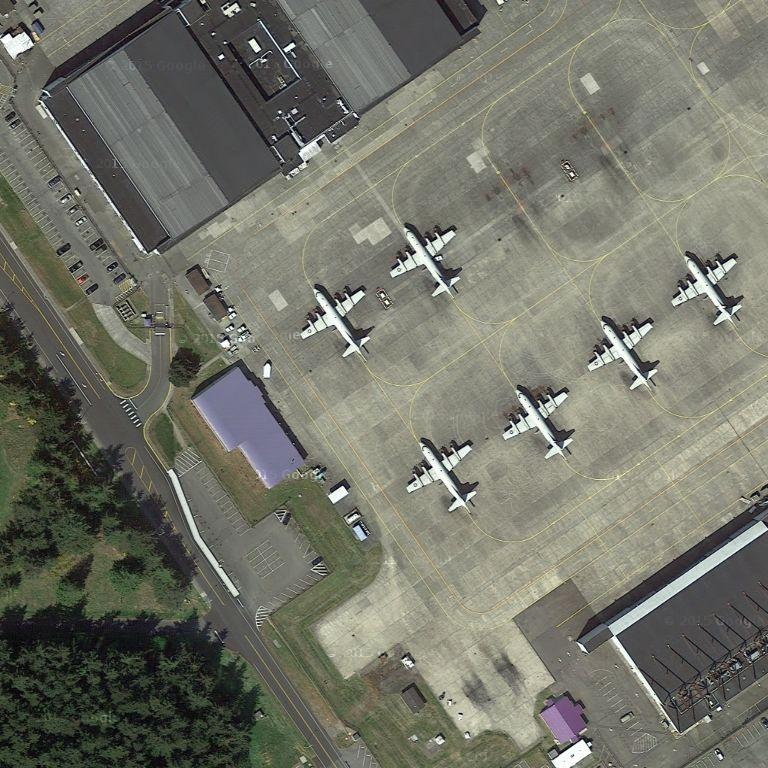P-3C: (385, 218, 469, 302), (295, 281, 380, 364), (667, 250, 750, 330), (584, 314, 664, 394), (499, 383, 580, 462), (403, 436, 481, 517)
